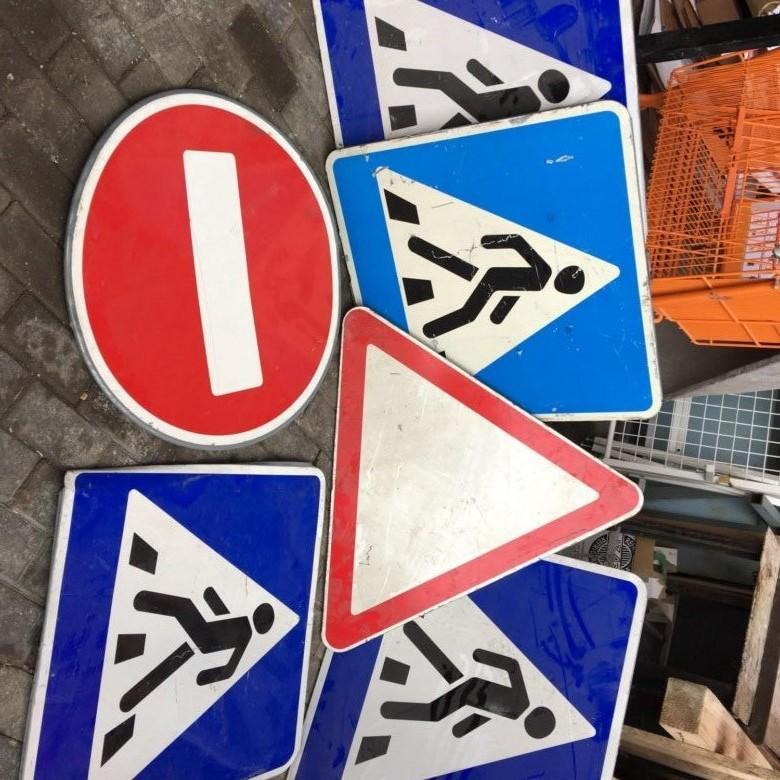obstructed_road_sign: (325, 100, 663, 422), (18, 465, 325, 780), (287, 555, 651, 780), (310, 0, 637, 149)
road_sign: (322, 307, 645, 655), (69, 93, 339, 449)
